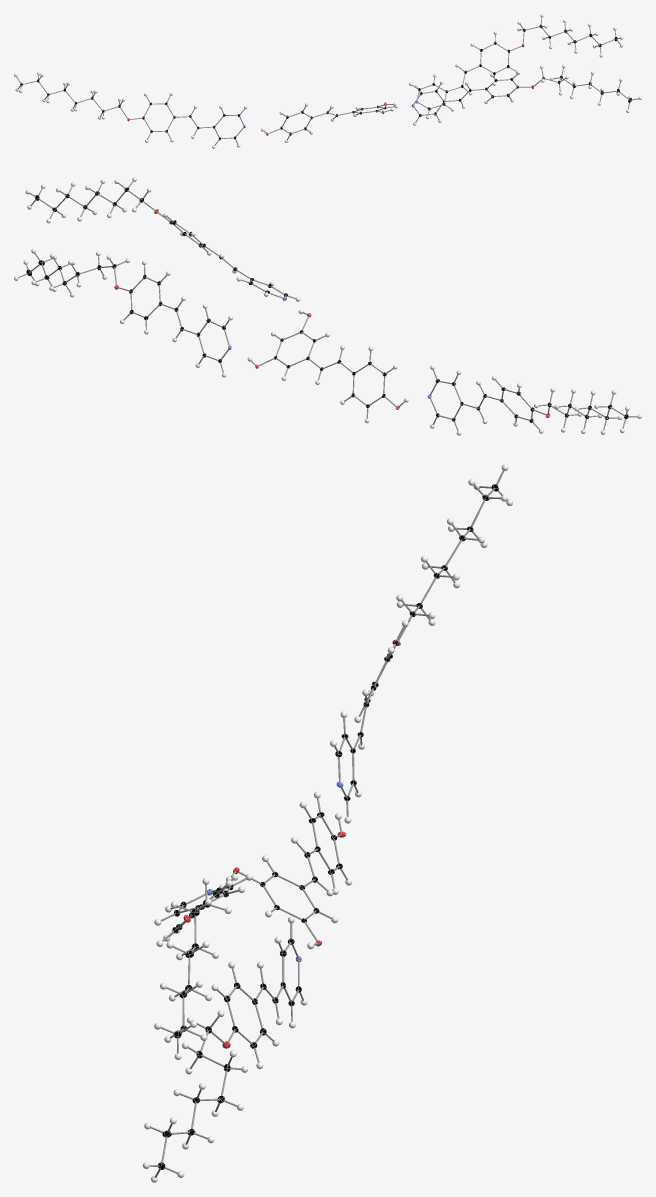
The model's file is structure.glb.
The picture shows the model from 3 angles, top to bottom: view 1: azimuth 30°, elevation 25°; view 2: azimuth 150°, elevation 25°; view 3: azimuth 270°, elevation 25°; orthographic projection. The views are drawn at different scales.
Size of the model in its own units: 54.46 by 10.25 by 16.18.
